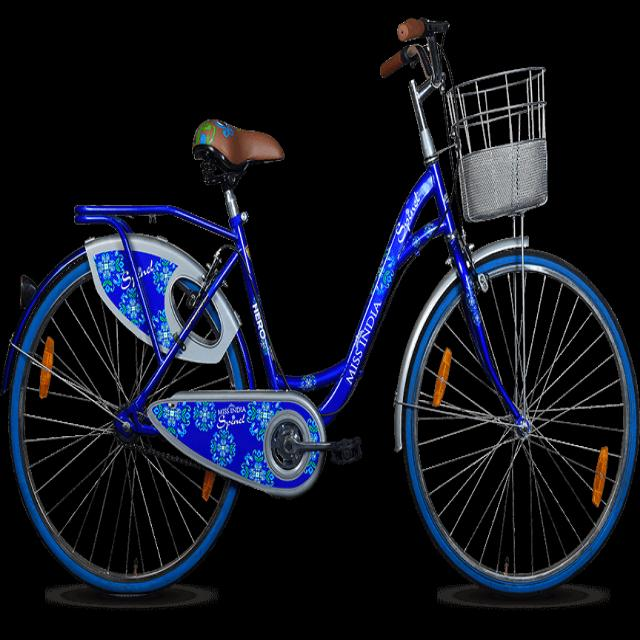bicycle: (2, 18, 638, 594)
